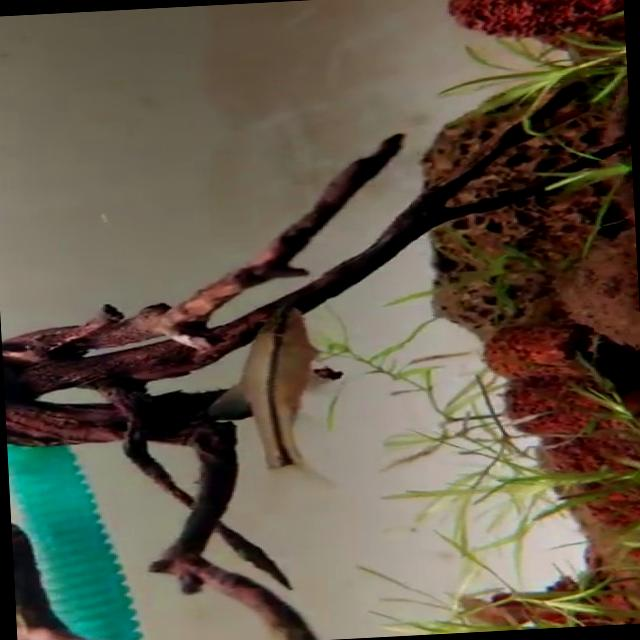Cakil Baligi: (188, 299, 344, 497)
